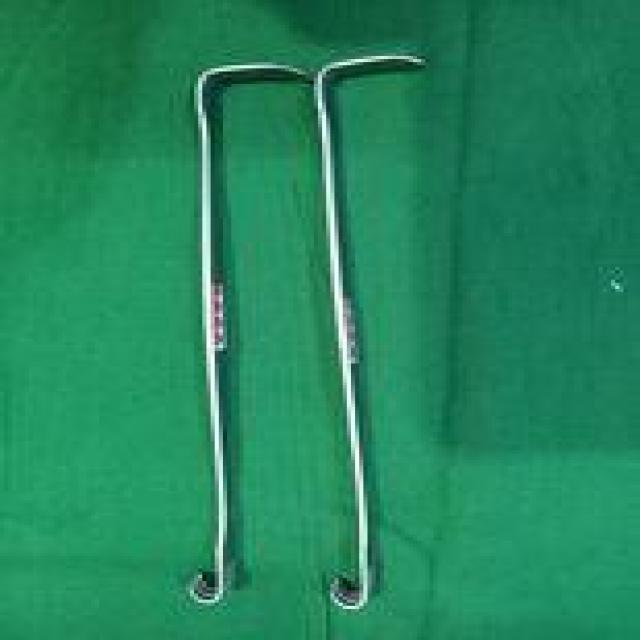Army_navy: (182, 59, 310, 609), (314, 49, 434, 616)
